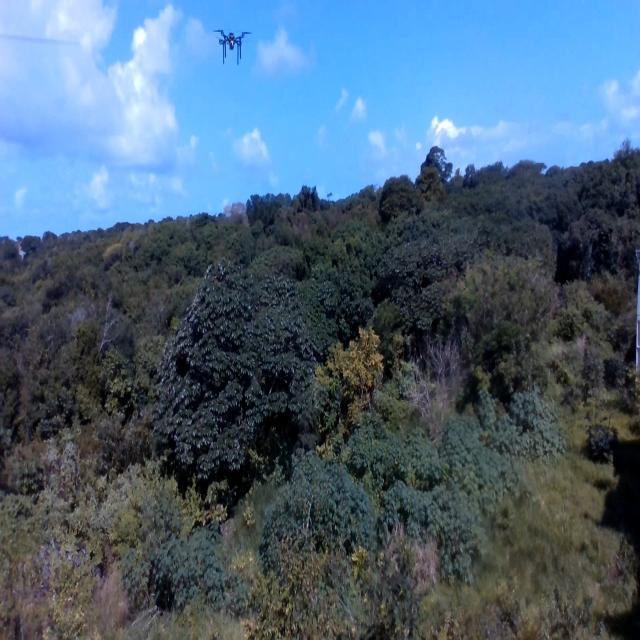-uav-: (210, 14, 252, 72)
